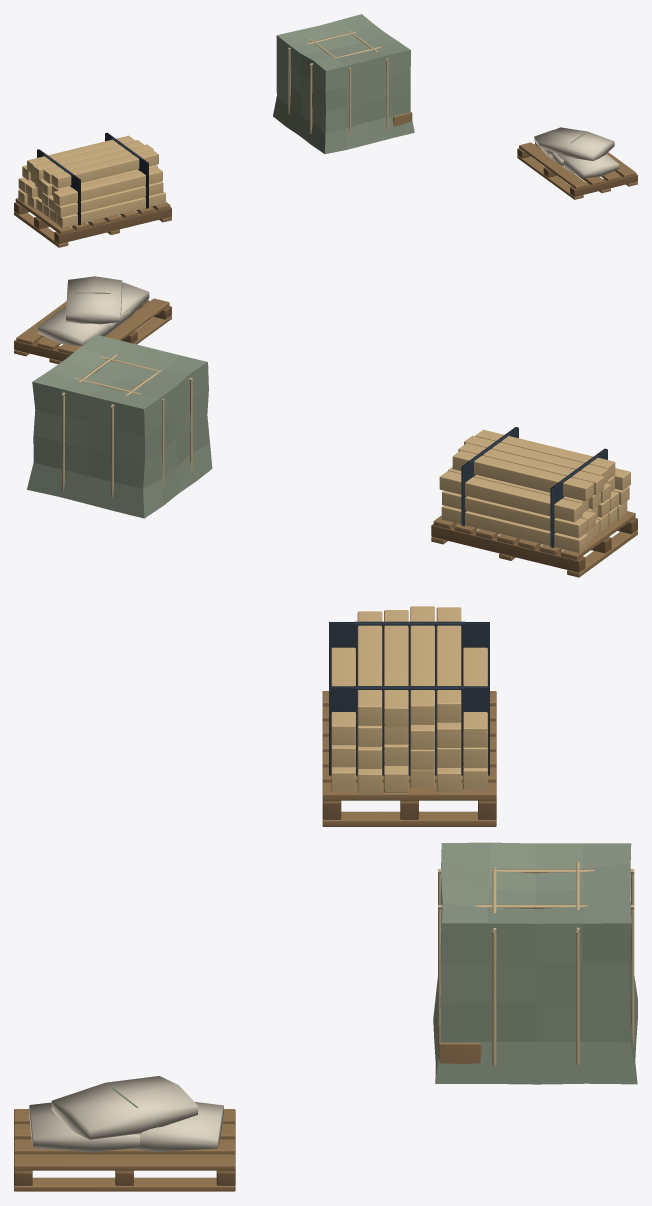
Rendered from rooftop_site.glb.
3 views of the same model, one above another, from view 1: azimuth 30°, elevation 25°; view 2: azimuth 150°, elevation 25°; view 3: azimuth 270°, elevation 25° (orthographic). The views are drawn at different scales.
Visible parts, largest first — view 1: Tarp, Sack2, Plank20, Plank31, Plank00, Plank10, LumberPalletRunner0, Sack0, LoosePalletDeck0, Plank33, Plank32, Plank34 (+6 smaller); view 2: Tarp, Plank25, Plank34, Sack2, Plank05, Plank15, LumberPalletRunner2, Sack1, Plank33, Plank32, Plank31, LoosePalletDeck0 (+8 smaller); view 3: Tarp, Sack2, LoosePalletDeck3, Strap+0, LoosePalletBase2, Plank34, Plank31, Plank33, Plank32, Sack1, Sack0, Strap-0 (+6 smaller).
Boxes of the visible parts, <box> form: Tarp: <box>273,14,414,154</box>; Sack2: <box>538,127,614,160</box>; Plank20: <box>53,167,162,206</box>; Plank31: <box>51,150,158,188</box>; Plank00: <box>56,191,165,228</box>; Plank10: <box>54,181,163,217</box>; LumberPalletRunner0: <box>54,207,171,243</box>; Sack0: <box>549,151,618,178</box>; LoosePalletDeck0: <box>519,142,588,189</box>; Plank33: <box>33,140,143,179</box>; Plank32: <box>43,144,153,183</box>; Plank34: <box>27,135,134,173</box>; Tarp: <box>27,334,212,518</box>; Plank25: <box>439,471,582,522</box>; Plank34: <box>452,450,593,501</box>; Sack2: <box>66,276,122,324</box>; Plank05: <box>441,505,587,553</box>; Plank15: <box>442,490,586,538</box>; LumberPalletRunner2: <box>431,524,585,572</box>; Sack1: <box>38,307,129,345</box>; Plank33: <box>458,443,604,495</box>; Plank32: <box>464,435,608,483</box>; Plank31: <box>475,429,615,479</box>; LoosePalletDeck0: <box>104,298,169,340</box>; Tarp: <box>433,842,637,1084</box>; Sack2: <box>51,1076,197,1139</box>; LoosePalletDeck3: <box>14,1154,235,1170</box>; Strap+0: <box>329,686,489,775</box>; LoosePalletBase2: <box>14,1177,235,1191</box>; Plank34: <box>436,607,461,722</box>; Plank31: <box>357,611,382,725</box>; Plank33: <box>410,606,434,724</box>; Plank32: <box>384,610,408,727</box>; Sack1: <box>130,1101,223,1151</box>; Sack0: <box>29,1102,139,1152</box>; Strap-0: <box>329,622,489,686</box>.
Size of the model in its own units: 4.17 by 0.6582 by 2.33.
